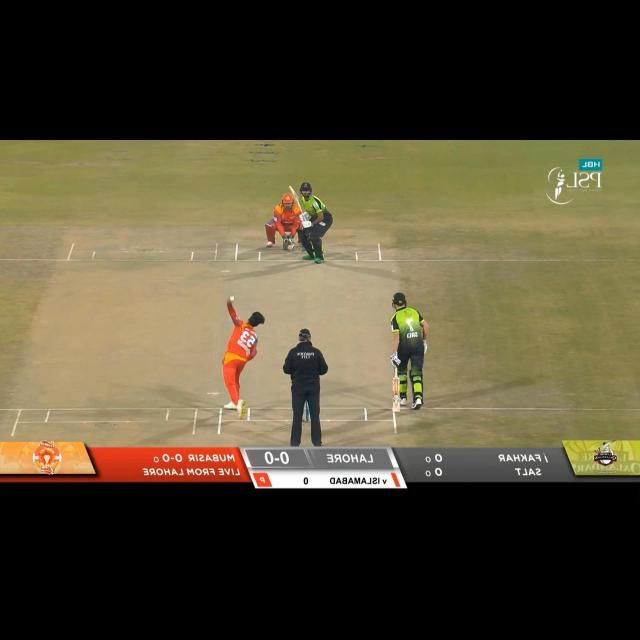bat: (288, 186, 304, 213), (392, 378, 401, 414)
toe: (392, 405, 402, 416), (287, 186, 296, 197)
